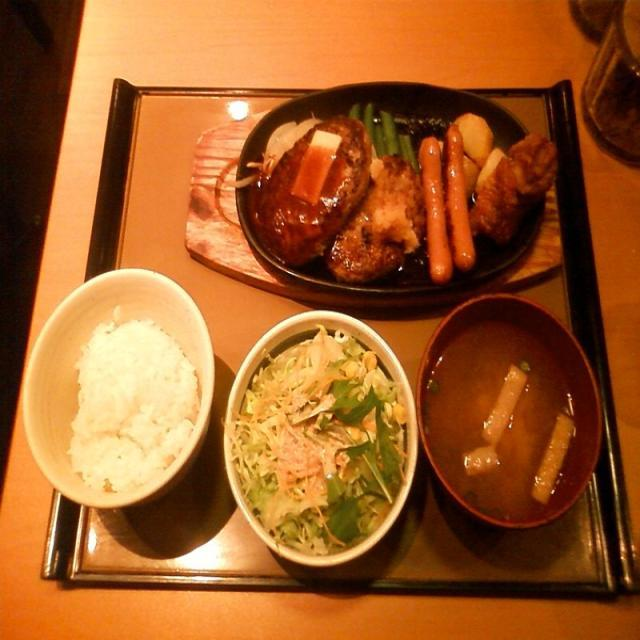Green Salad: (240, 329, 406, 553)
Rice: (44, 310, 201, 502)
